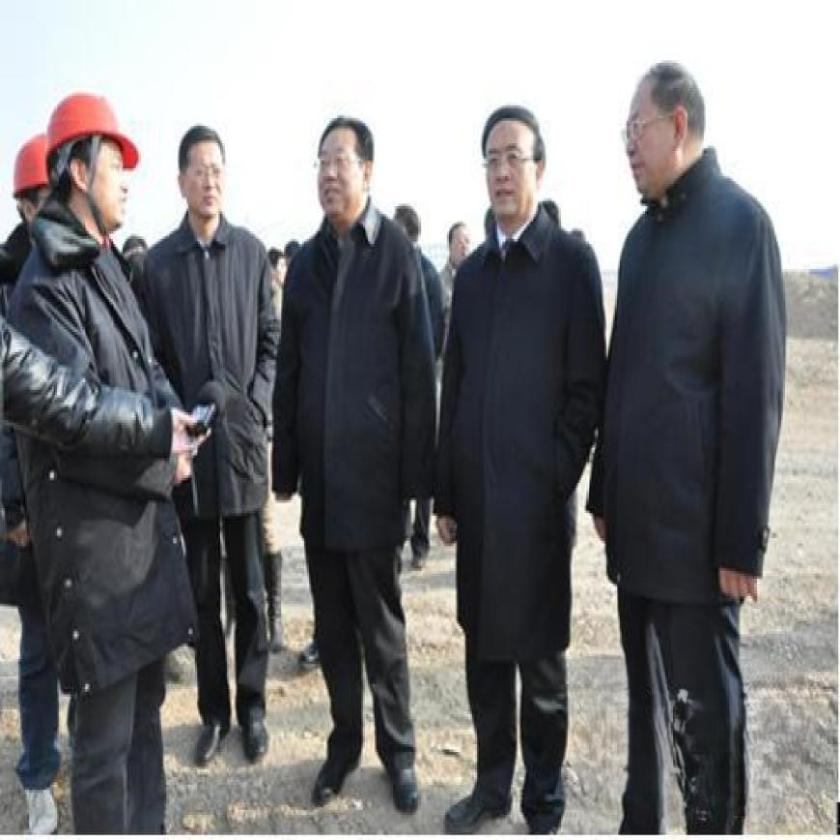Con_casco: (51, 86, 139, 246)
Sin_casco: (608, 59, 718, 200), (477, 87, 561, 237), (307, 100, 393, 241), (179, 118, 231, 212)
